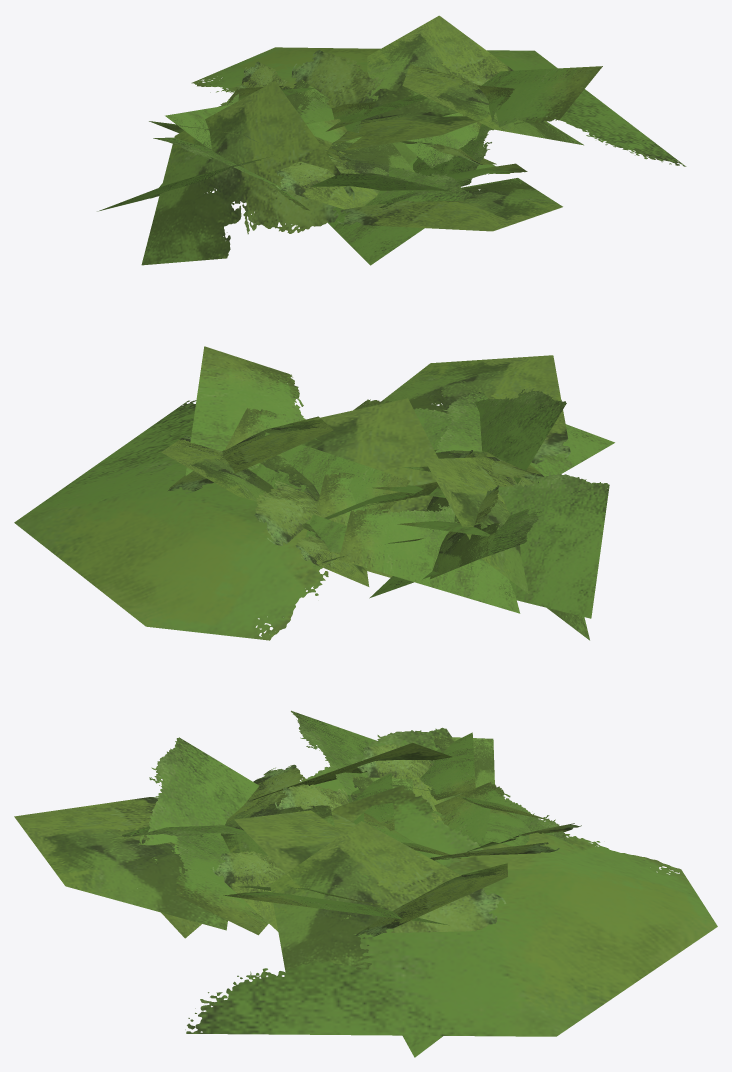
The model's file is Mousse_03.fbx.
The picture shows the model from 3 angles, top to bottom: view 1: azimuth 30°, elevation 25°; view 2: azimuth 150°, elevation 25°; view 3: azimuth 270°, elevation 25°; orthographic projection. The views are drawn at different scales.
Visible parts, largest first — view 1: Mousse_03; view 2: Mousse_03; view 3: Mousse_03.
Part boxes in pixels (box(x1,y1,x2,y2)): Mousse_03: box(97, 15, 686, 265); Mousse_03: box(14, 346, 614, 640); Mousse_03: box(14, 710, 717, 1057).
Bounding box in the file's own units: 2.8 × 0.8338 × 2.89.
